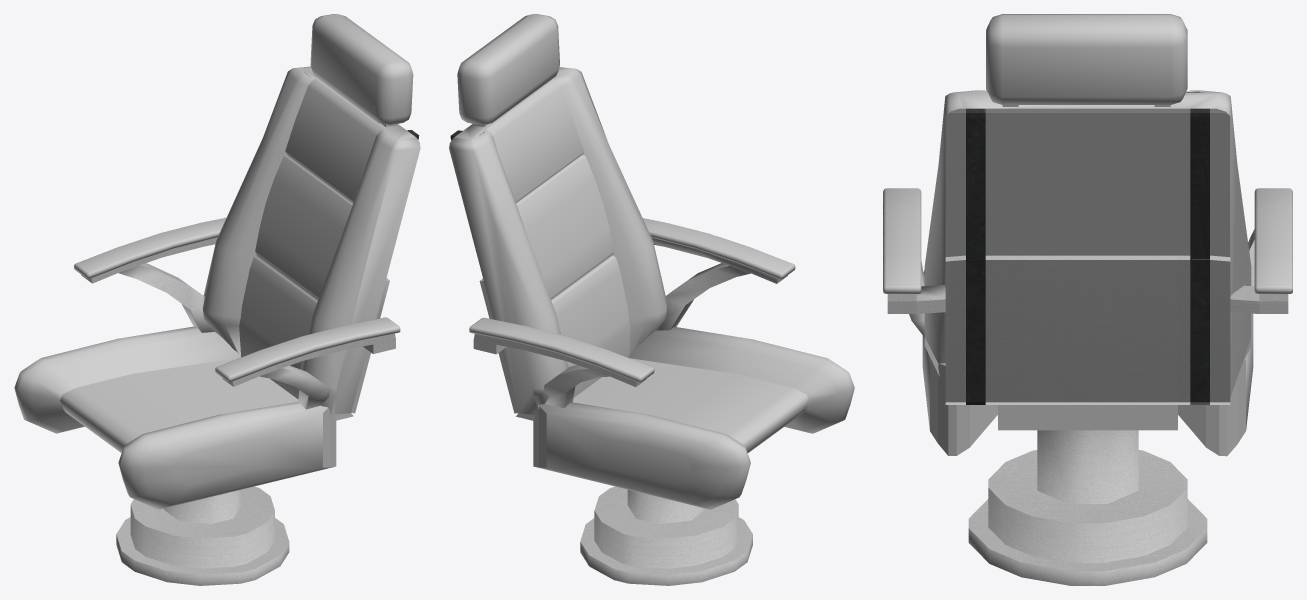
Rendered from CaptainsChair.fbx.
The picture shows the model from 3 angles, left to right: view 1: azimuth 30°, elevation 25°; view 2: azimuth 150°, elevation 25°; view 3: azimuth 270°, elevation 25°; orthographic projection. The views are drawn at different scales.
Parts seen in each view (by area): view 1: Cube.005; view 2: Cube.005; view 3: Cube.005.
Part boxes in pixels (left/top/right/bottom): Cube.005: left=14, top=14, right=420, bottom=585; Cube.005: left=449, top=14, right=854, bottom=585; Cube.005: left=883, top=14, right=1292, bottom=585.
Bounding box in the file's own units: 349 × 504 × 301.
